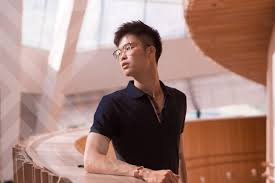asian_male: (108, 19, 167, 83)
